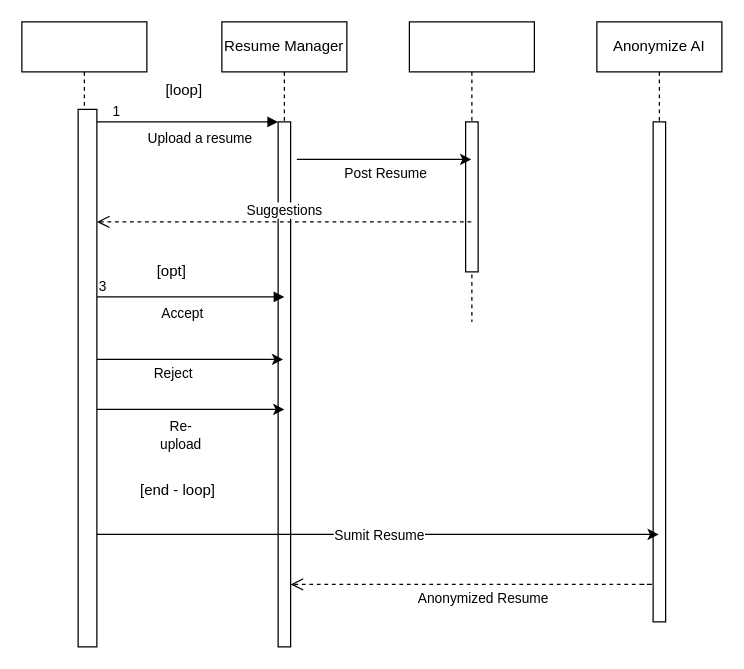
The diagram is 744 pixels wide and 669 high, and some of its shapes have lost their labels. The shapes that lost their labels are listed below. From the top down, each one's box as (x1, y1, x2, y2) in pixels, then its label:
(408, 21, 534, 322): Resume AI
(21, 21, 147, 647): Candidate
